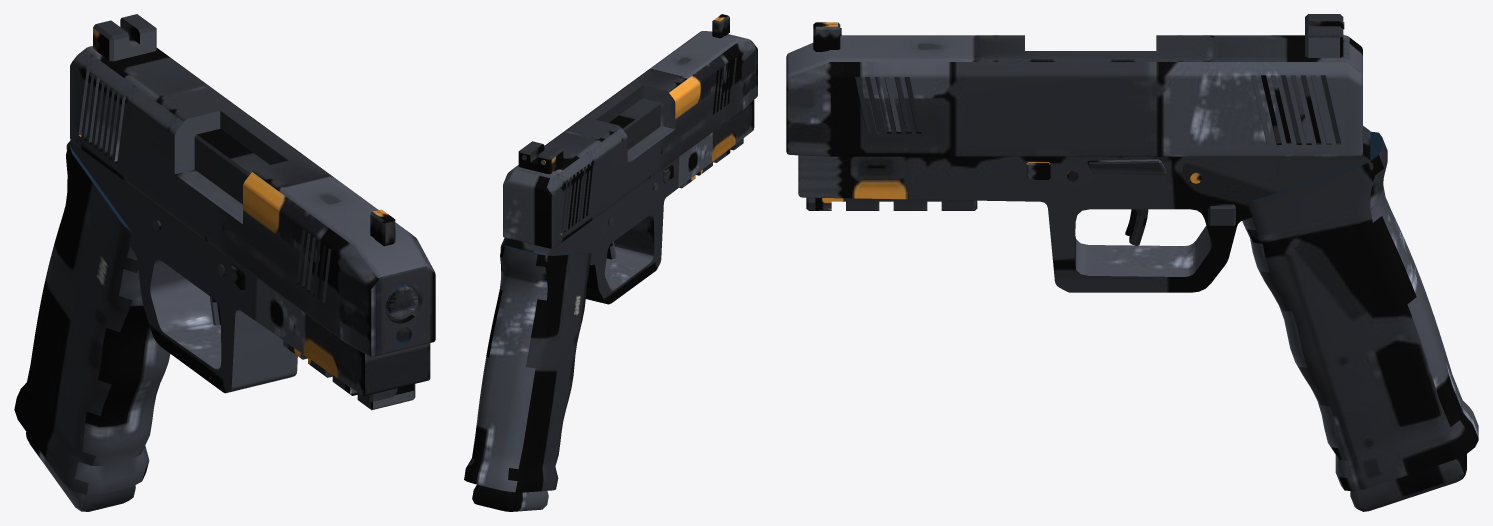
Rendered from pistol.glb.
The picture shows the model from 3 angles, left to right: view 1: azimuth 30°, elevation 25°; view 2: azimuth 150°, elevation 25°; view 3: azimuth 270°, elevation 25°; orthographic projection. The views are drawn at different scales.
Parts seen in each view (by area): view 1: Pistol_Body, Pistol_Slide, Pistol_Mag; view 2: Pistol_Body, Pistol_Slide, Pistol_Mag; view 3: Pistol_Body, Pistol_Slide, Pistol_Mag.
Boxes of the visible parts, x1,y1,x2,y2 form: Pistol_Body: (14,128,430,495); Pistol_Slide: (70,14,435,356); Pistol_Mag: (26,432,135,511); Pistol_Body: (464,98,754,492); Pistol_Slide: (503,14,757,248); Pistol_Mag: (472,484,548,511); Pistol_Body: (798,126,1478,491); Pistol_Slide: (786,14,1362,156); Pistol_Mag: (1350,454,1466,511).
Bounding box in the file's own units: 0.1133 × 0.6632 × 0.8701.
Materials: 1 (1 with a texture image).
